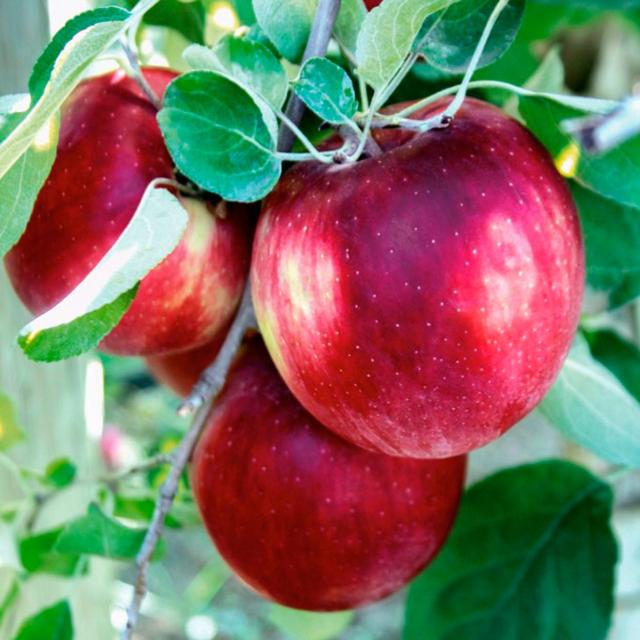manzana: (238, 95, 588, 471)
